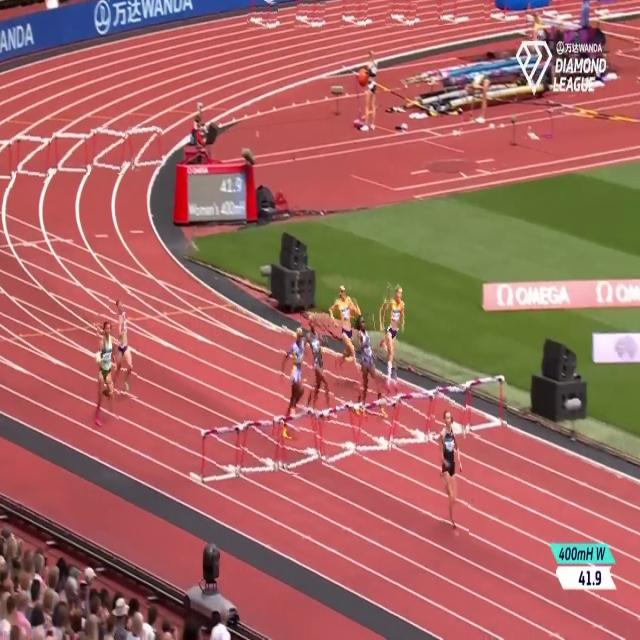athlete: (328, 270, 365, 398), (436, 406, 468, 538), (275, 322, 306, 437), (92, 314, 122, 431), (303, 308, 334, 421), (376, 282, 407, 395), (353, 314, 385, 421), (111, 293, 137, 399)
hurdle: (193, 420, 240, 488), (238, 414, 283, 480), (278, 407, 321, 475), (318, 402, 361, 466), (354, 394, 396, 459), (466, 373, 507, 438), (391, 391, 433, 449), (430, 383, 472, 438), (126, 122, 166, 170), (91, 126, 128, 174), (17, 130, 51, 182), (53, 129, 90, 175), (294, 0, 324, 32), (247, 0, 277, 30), (385, 0, 416, 28), (341, 0, 368, 29), (0, 132, 14, 187), (437, 0, 462, 25), (484, 0, 511, 23)
